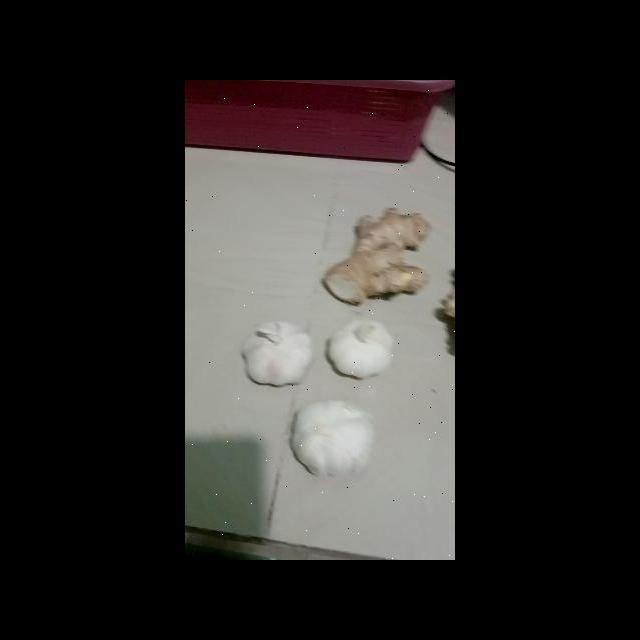garlic: (292, 396, 371, 479), (240, 321, 310, 386), (325, 316, 395, 379)
ginger: (322, 207, 432, 305)
